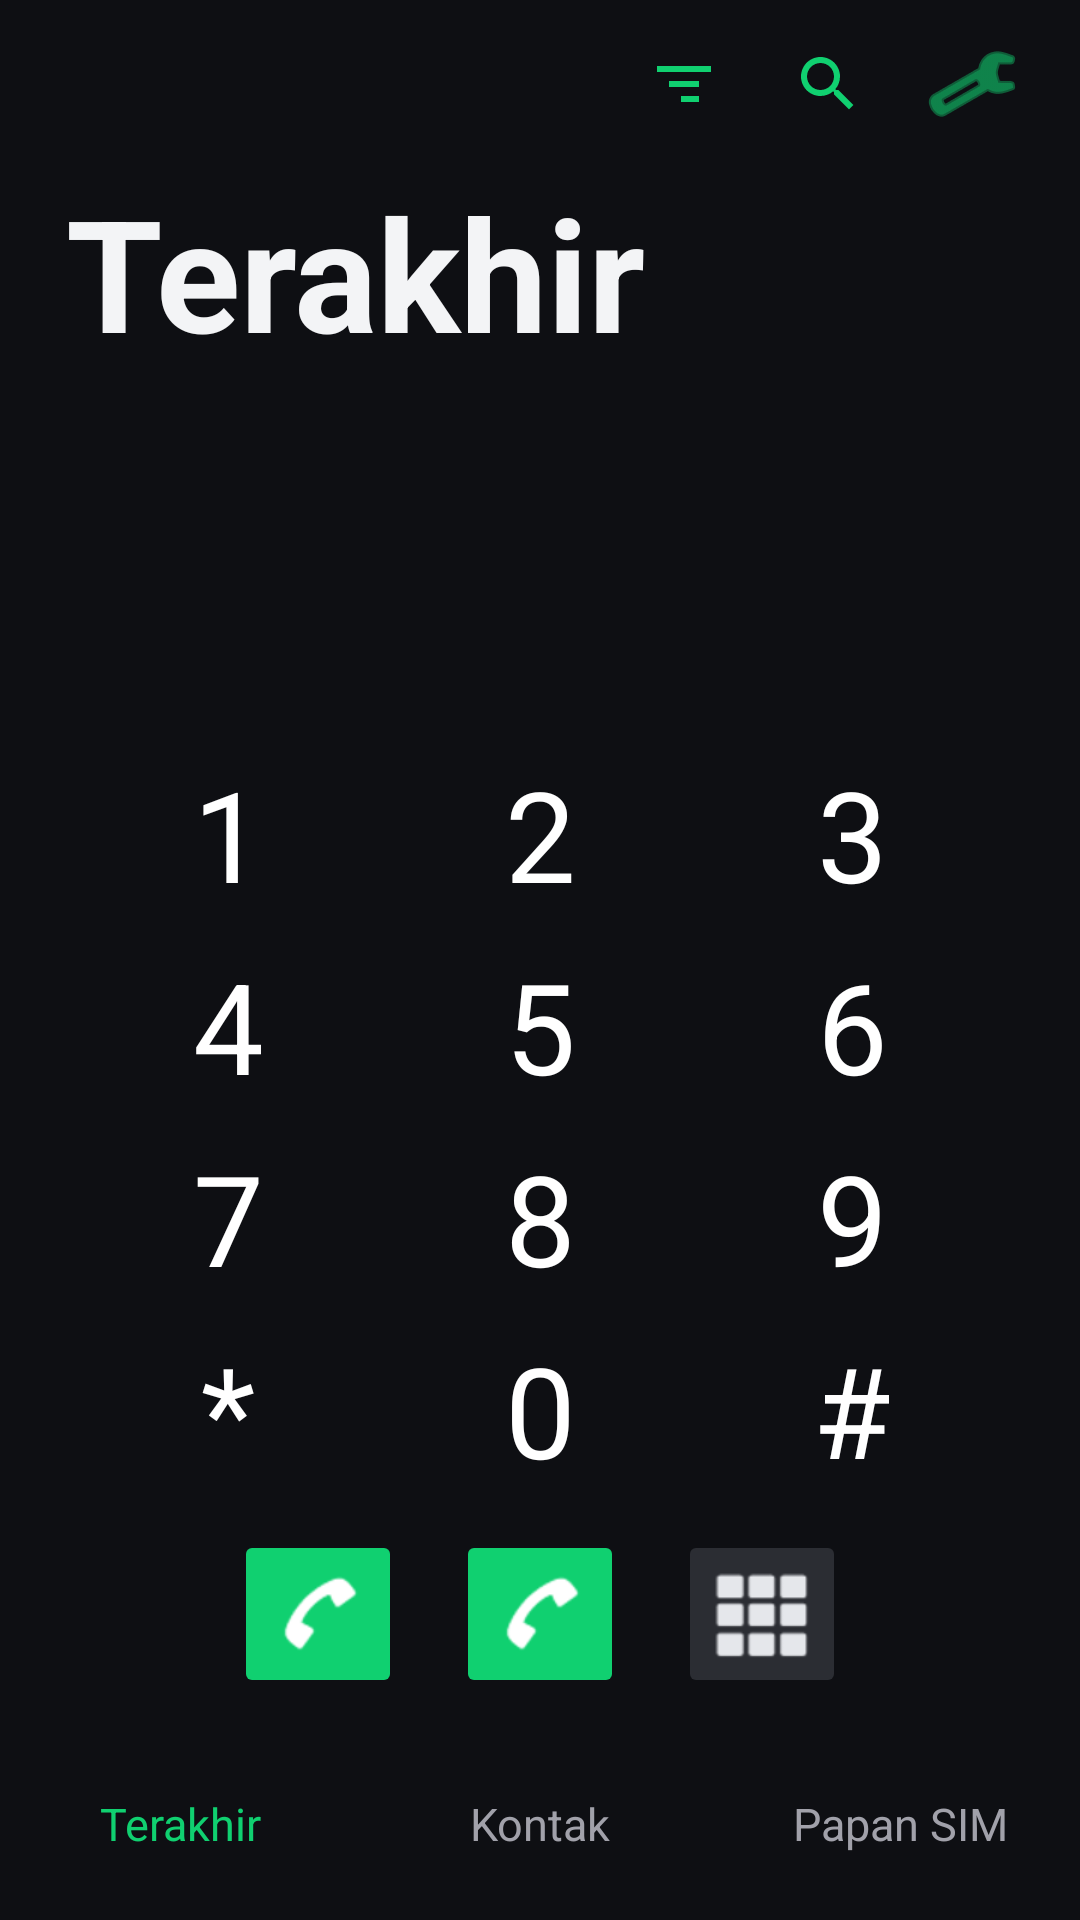

Where to tap for icons on this 1080x1920 app screen, as (x=x, y=y):
dialer: (x=762, y=1614)
manage: (x=972, y=84)
search: (x=827, y=83)
sort: (x=684, y=84)
sym action call: (x=318, y=1614), (x=540, y=1614)
